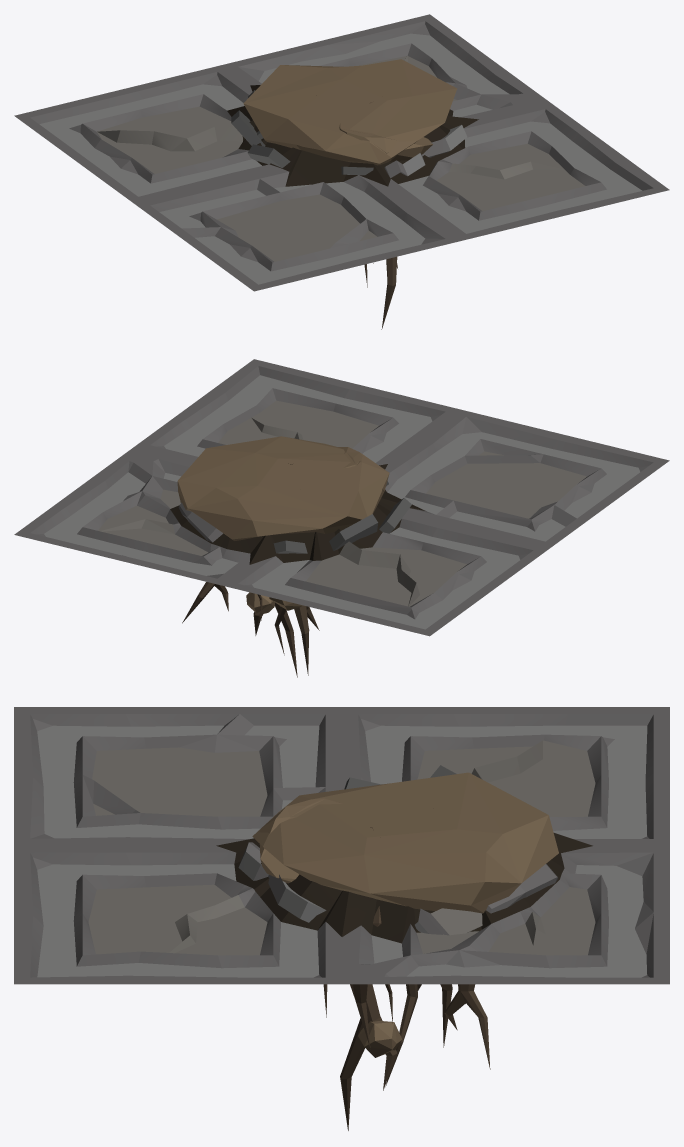
The model's file is SM_Env_Ceiling_Stone_Flat_07.fbx.
The picture shows the model from 3 angles, top to bottom: view 1: azimuth 30°, elevation 25°; view 2: azimuth 150°, elevation 25°; view 3: azimuth 270°, elevation 25°; orthographic projection. The views are drawn at different scales.
Parts seen in each view (by area): view 1: SM_Env_Ceiling_Stone_Flat_07; view 2: SM_Env_Ceiling_Stone_Flat_07; view 3: SM_Env_Ceiling_Stone_Flat_07.
Part boxes in pixels (left/top/right/bottom): SM_Env_Ceiling_Stone_Flat_07: left=14, top=14, right=669, bottom=329; SM_Env_Ceiling_Stone_Flat_07: left=14, top=359, right=669, bottom=677; SM_Env_Ceiling_Stone_Flat_07: left=14, top=707, right=669, bottom=1130.
Size of the model in its own units: 10 by 5.11 by 10.
